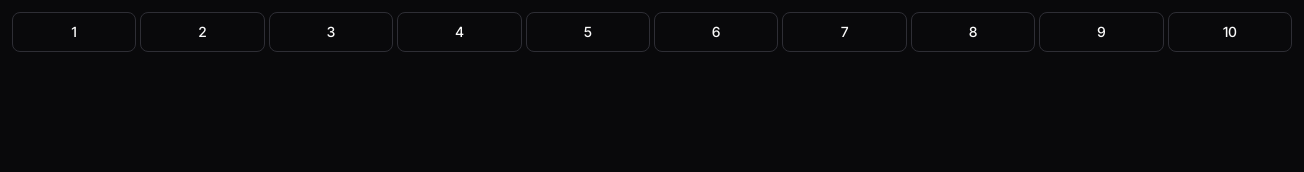
Test: RatingStrip › clears the message at the start of the next tap
Click the button "3": {"x": 331, "y": 32} [269, 12, 393, 52]
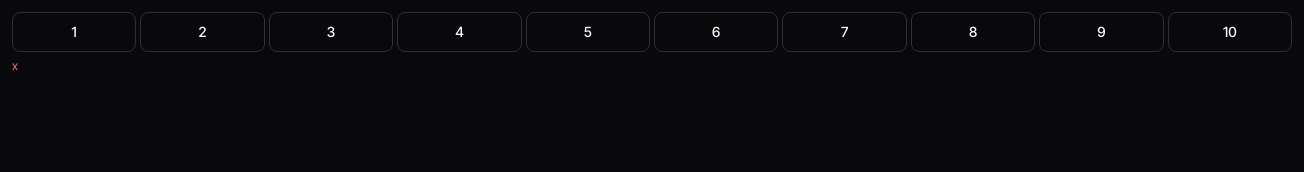
Expected: the message reads "x", [12, 58, 18, 73]
Click the button "3": {"x": 331, "y": 32} [269, 12, 393, 52]
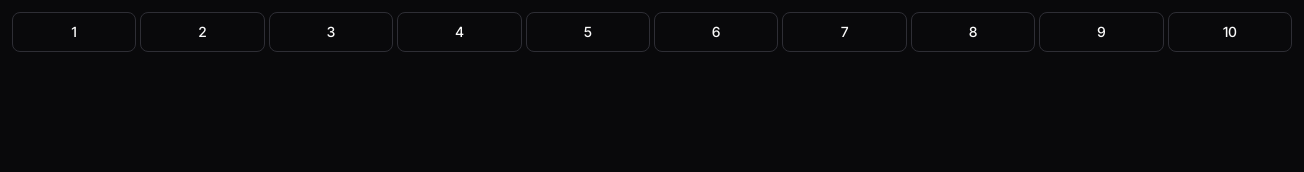
Expected: the message "x" is gone
